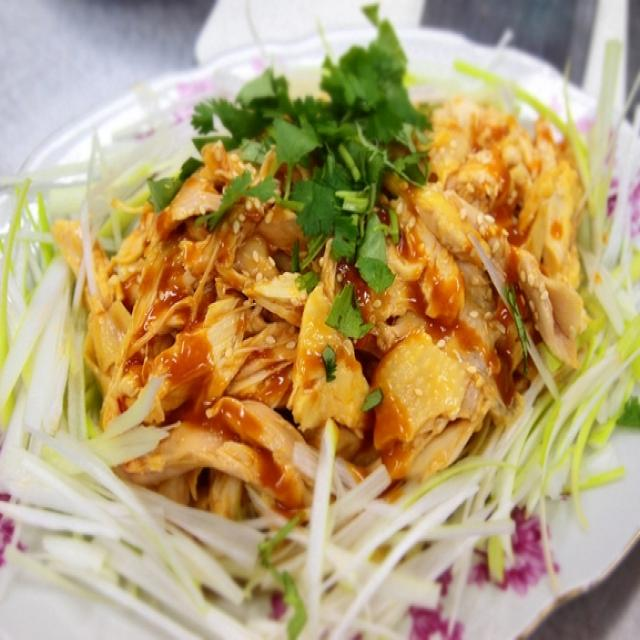鸡肉料理 含炸鸡: (1, 37, 633, 631)
